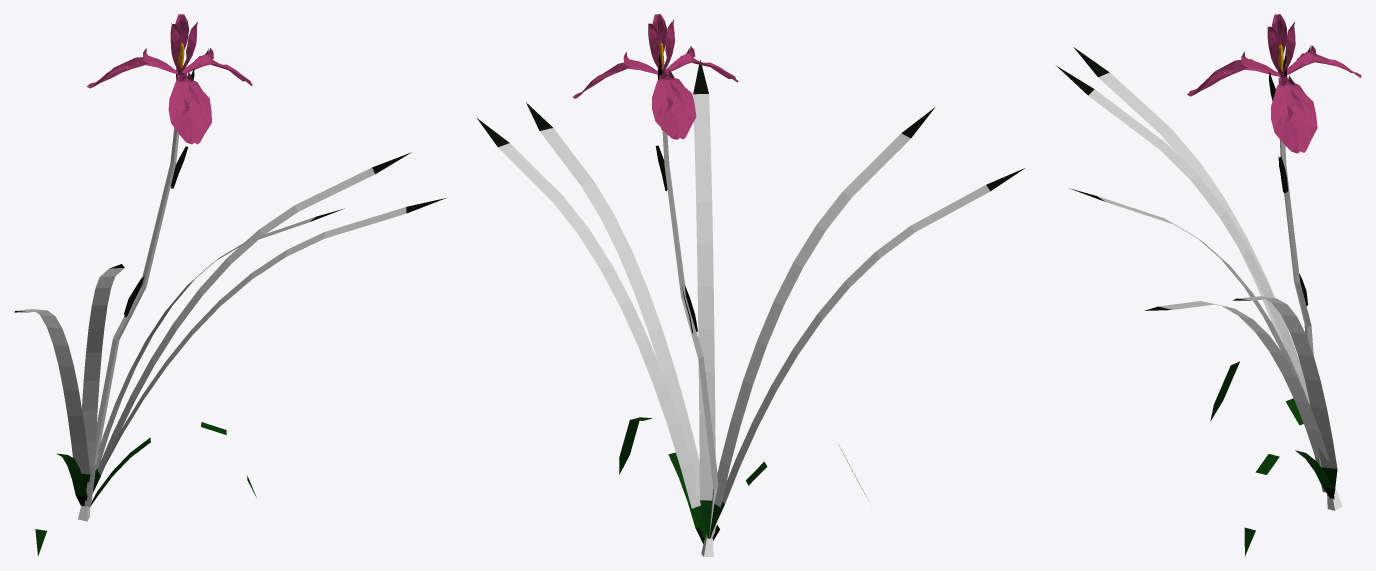
3 renders of one model, left to right at view 1: azimuth 30°, elevation 25°; view 2: azimuth 150°, elevation 25°; view 3: azimuth 270°, elevation 25°, orthographic. The views are drawn at different scales.
Parts seen in each view (by area): view 1: leaves2, petals2a, stem, petals3, leaves2b, petals1; view 2: leaves2, petals2a, stem, leaves3, petals3, leaves2b, leaves1; view 3: leaves2, petals2a, stem, leaves2b, petals3, leaves3, petals1.
Boxes of the visible parts, x1,y1,x2,y2 form: leaves2: (16,167,406,476); petals2a: (87,56,252,144); stem: (84,128,178,506); petals3: (170,14,197,73); leaves2b: (56,422,226,496); petals1: (142,48,213,80); leaves2: (498,94,990,508); petals2a: (572,55,738,139); stem: (662,130,718,537); leaves3: (477,60,1024,191); petals3: (648,14,674,72); leaves2b: (619,417,859,527); leaves1: (692,500,724,540); leaves2: (1088,72,1337,468); petals2a: (1187,53,1361,153); stem: (1277,85,1325,492); leaves2b: (1214,361,1333,488); petals3: (1267,14,1295,75); leaves3: (1056,47,1250,310); petals1: (1241,45,1316,85).
Bounding box in the file's own units: 61 × 61.55 × 32.48.
